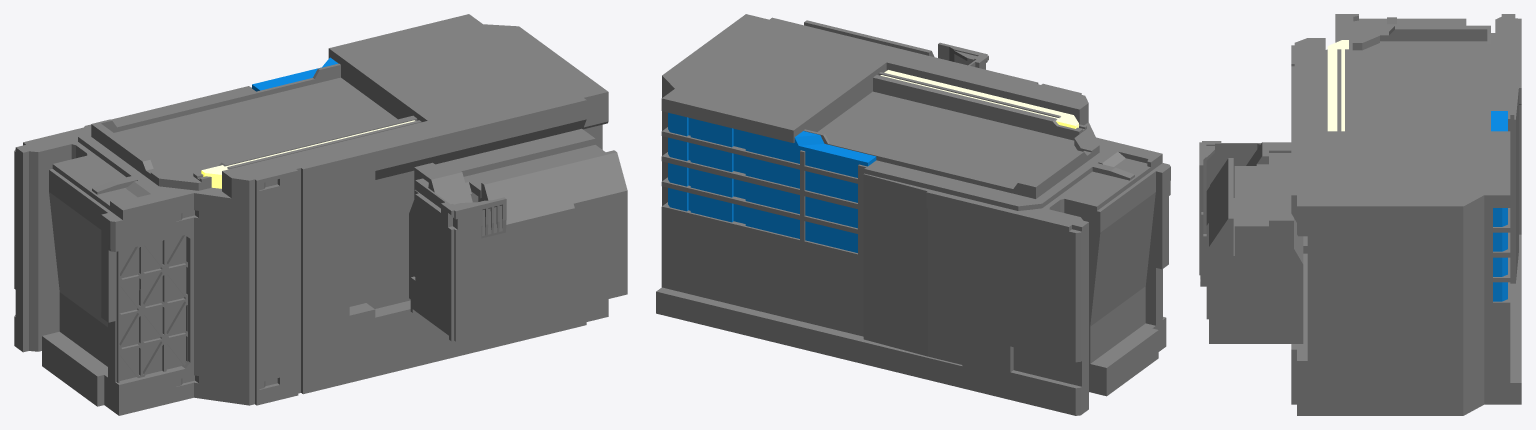
The model's file is Building_A_Top.fbx.
The picture shows the model from 3 angles, left to right: view 1: azimuth 30°, elevation 25°; view 2: azimuth 150°, elevation 25°; view 3: azimuth 270°, elevation 25°; orthographic projection. The views are drawn at different scales.
Visible parts, largest first — view 1: Building_A_Top_Base, Building_A_Top_Prop, Building_A_Top_Cover, Building_A_Top, Building_A_Top_Frame, Emissive_Orange, Glass_Blue; view 2: Building_A_Top_Base, Glass_Blue, Emissive_Orange, Building_A_Top_Prop, Building_A_Top_Cover; view 3: Building_A_Top_Base, Building_A_Top_Prop, Building_A_Top_Cover, Glass_Blue, Emissive_Orange.
Boxes of the visible parts, x1=… form: Building_A_Top_Base: x1=14, y1=14, x2=608, y2=415; Building_A_Top_Prop: x1=409, y1=128, x2=627, y2=325; Building_A_Top_Cover: x1=410, y1=178, x2=506, y2=341; Building_A_Top: x1=116, y1=240, x2=165, y2=382; Building_A_Top_Frame: x1=165, y1=235, x2=187, y2=371; Emissive_Orange: x1=201, y1=120, x2=414, y2=188; Glass_Blue: x1=252, y1=57, x2=338, y2=91; Building_A_Top_Base: x1=656, y1=14, x2=1170, y2=415; Glass_Blue: x1=668, y1=112, x2=876, y2=252; Emissive_Orange: x1=880, y1=70, x2=1078, y2=128; Building_A_Top_Prop: x1=804, y1=20, x2=934, y2=56; Building_A_Top_Cover: x1=938, y1=42, x2=988, y2=69; Building_A_Top_Base: x1=1291, y1=14, x2=1521, y2=415; Building_A_Top_Prop: x1=1206, y1=142, x2=1303, y2=343; Building_A_Top_Cover: x1=1199, y1=141, x2=1261, y2=286; Glass_Blue: x1=1491, y1=111, x2=1507, y2=301; Emissive_Orange: x1=1327, y1=40, x2=1348, y2=131.
Bounding box in the file's own units: 6836 × 3091 × 4306.
